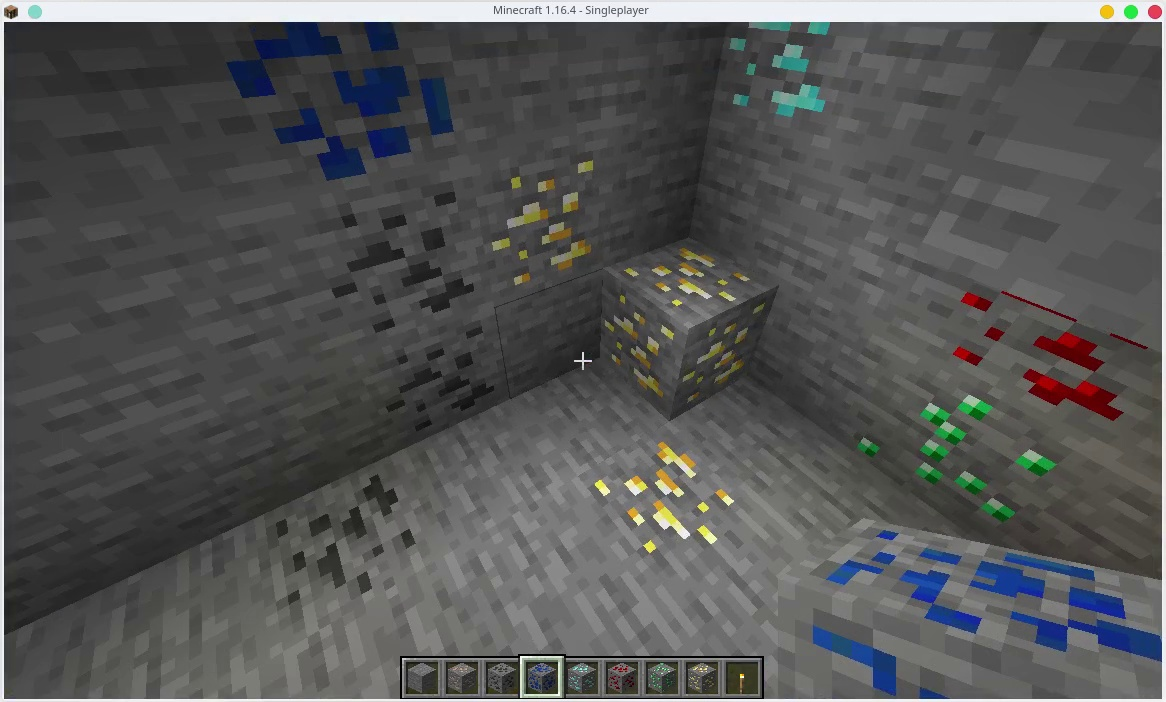gold: (595, 254, 765, 403), (591, 438, 737, 583), (482, 161, 594, 291), (684, 660, 719, 695)
